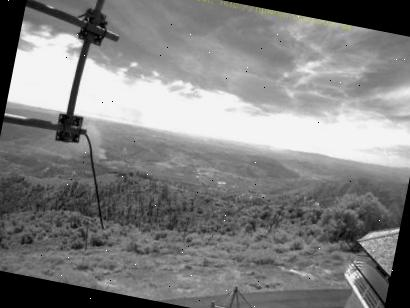smoke: (76, 120, 112, 164)
